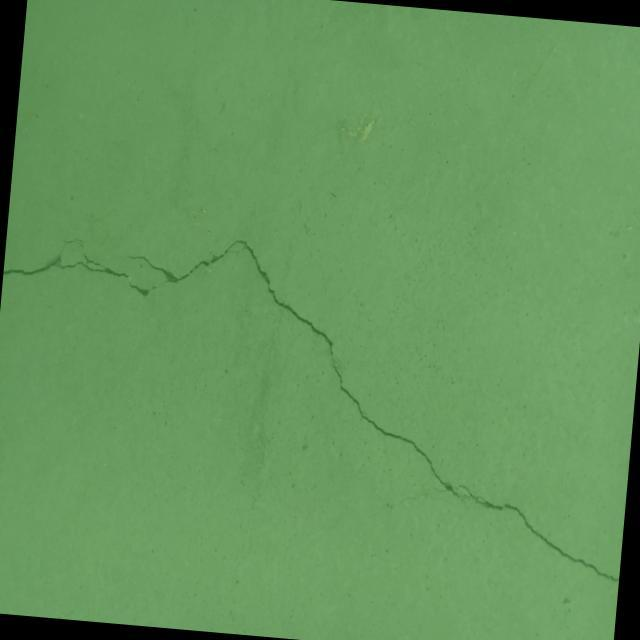crack: (93, 228, 640, 582), (3, 231, 132, 286)
